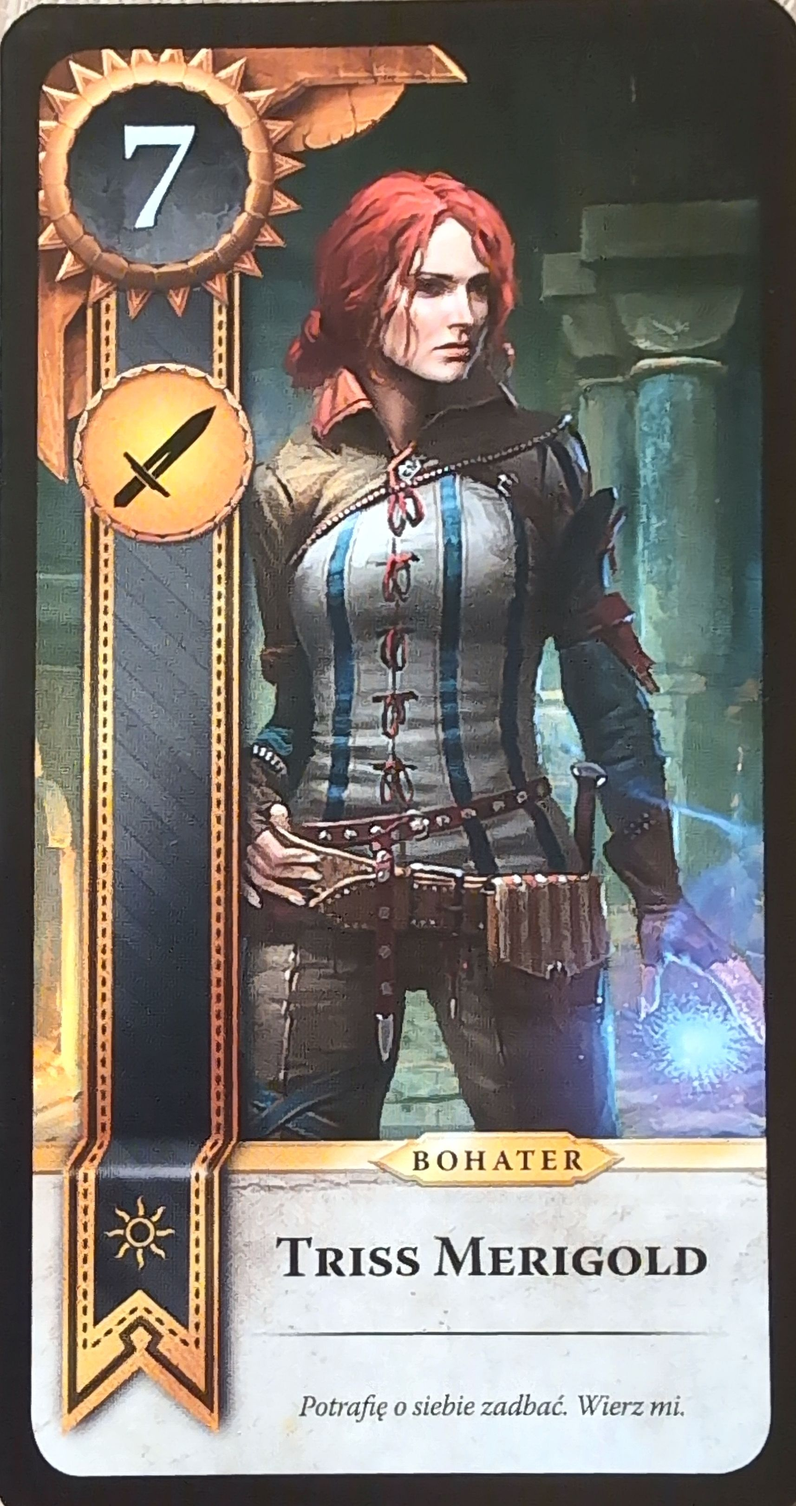7: (36, 47, 305, 322)
bohater: (373, 1132, 623, 1189)
miecz: (72, 364, 253, 543)
